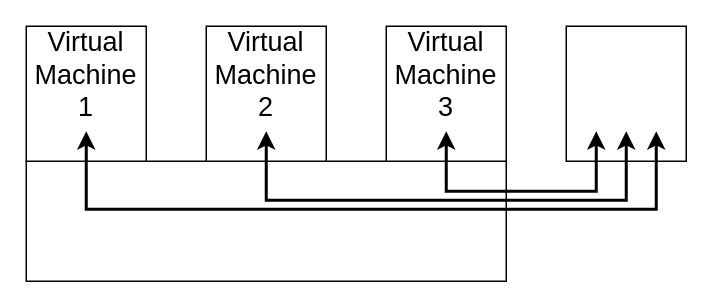
This 713x308 diagram has some shape labels left out. The shapes that lost their labels are listed below. From the top down, each one's centre as x and y in pixels, then its label:
point 625,93: Shared TEE
point 265,220: Hypervisor
